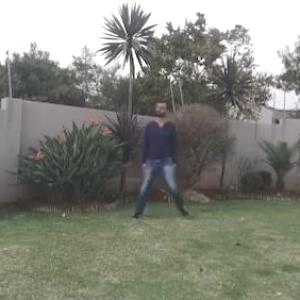follow: (140, 94, 176, 220)
